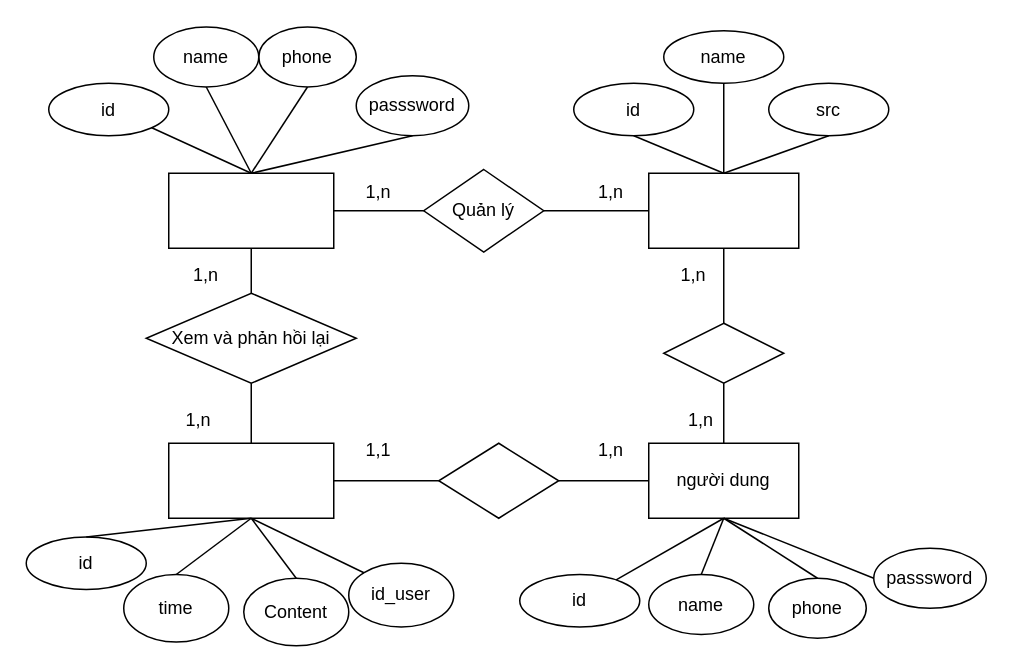
Image size: 1013x672. Some labels were removed from this diagram. Each missing label, with the box of its shape:
ADMIN: (167, 172, 334, 248)
contact: (167, 442, 334, 518)
Gửi: (437, 442, 559, 518)
video: (647, 172, 799, 248)
Xem: (662, 322, 784, 383)
